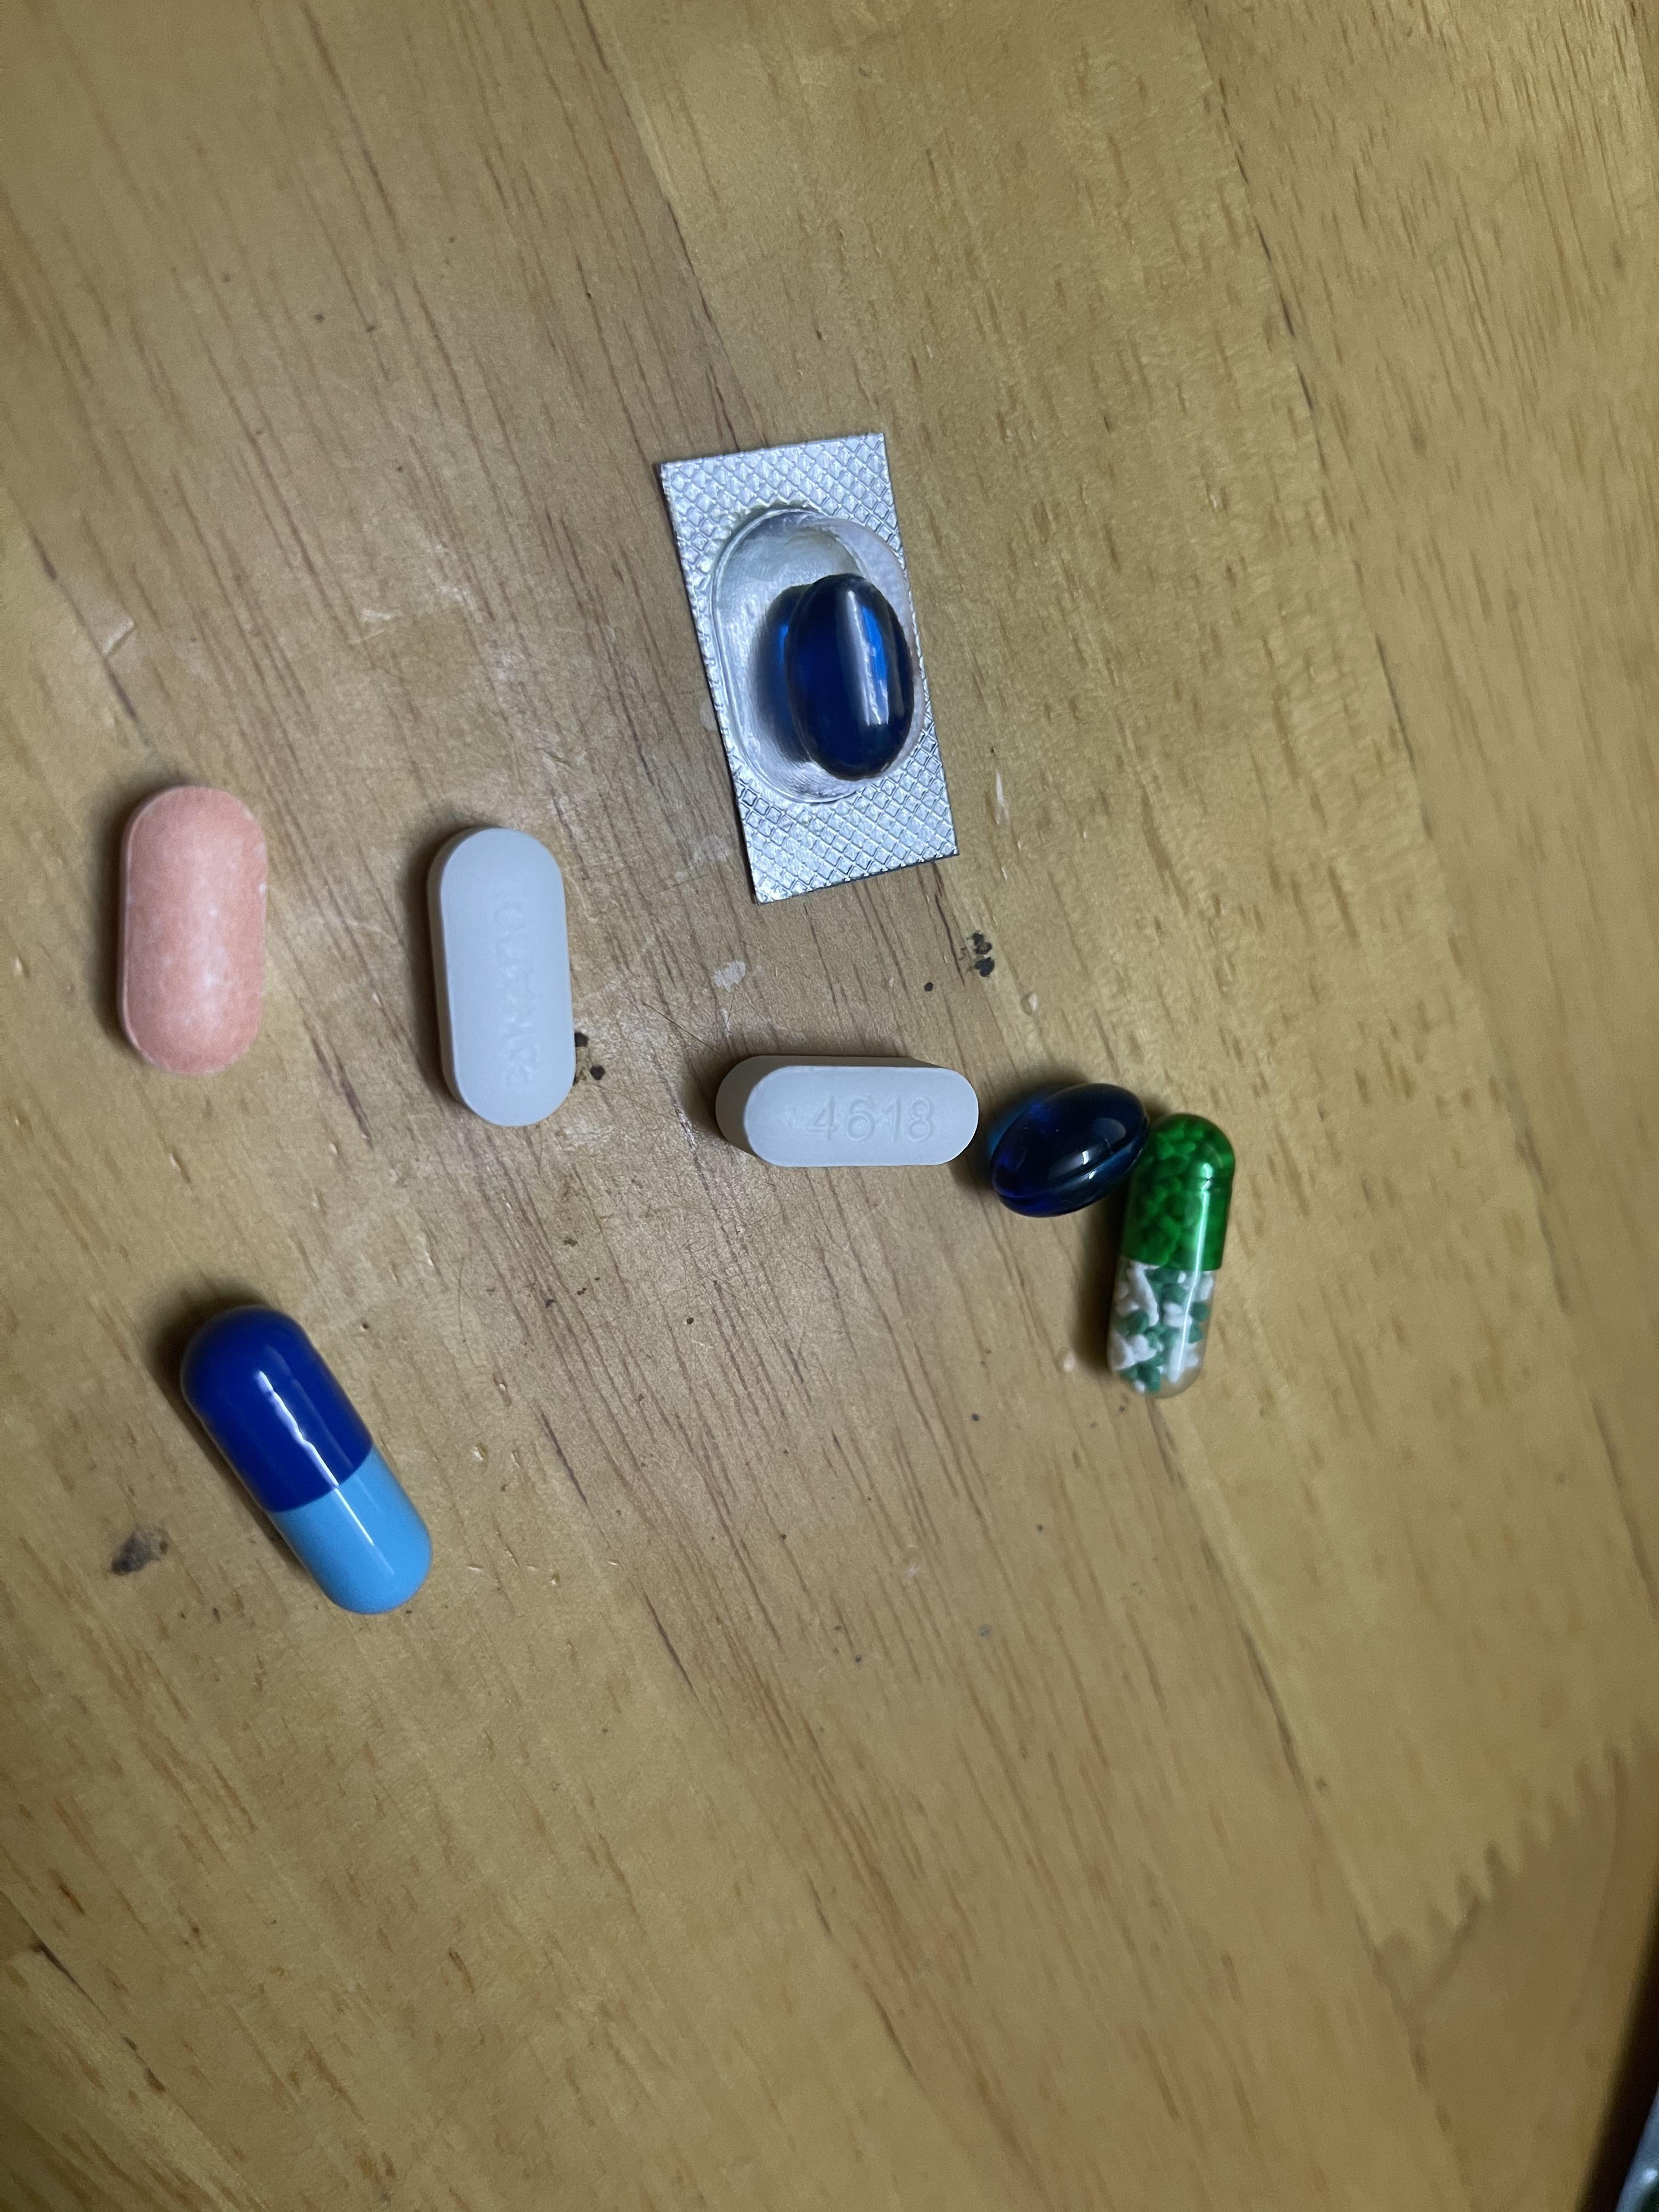Lincomyxin_500mg: (767, 570, 925, 791), (985, 1082, 1147, 1211)
Loratadine_10mg: (113, 784, 265, 1068)
Paracetamol_350mg: (434, 831, 579, 1116)
Paracetamol_500mg: (742, 1062, 979, 1167)
Paracetamol_650mg: (1110, 1115, 1232, 1388)
pill: (190, 1315, 429, 1611)
